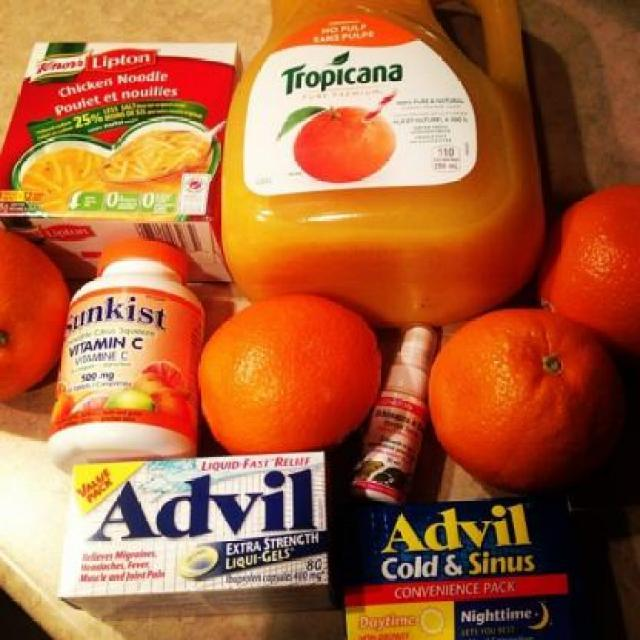Orange: (429, 309, 628, 494), (196, 294, 379, 452), (538, 184, 640, 346), (0, 226, 65, 400), (296, 103, 401, 183)
